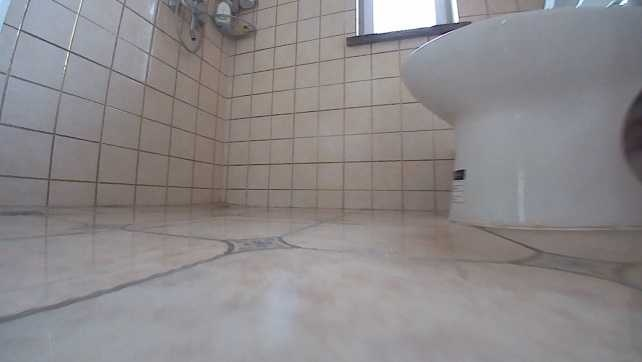toilet: (393, 0, 640, 228)
